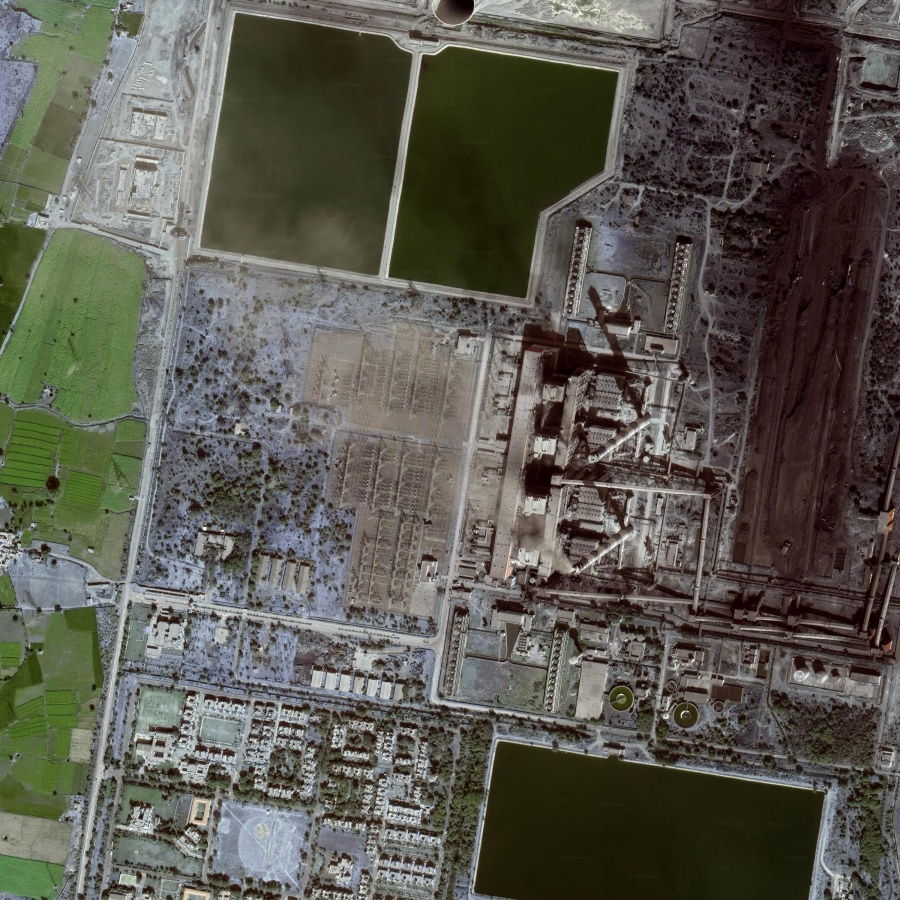PowerPlant: (187, 8, 626, 316)
